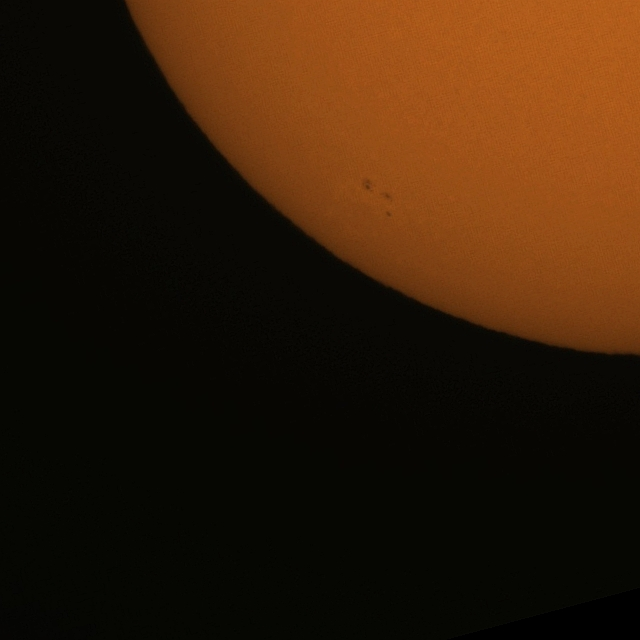sunspot: (362, 177, 376, 195), (386, 210, 392, 218)
